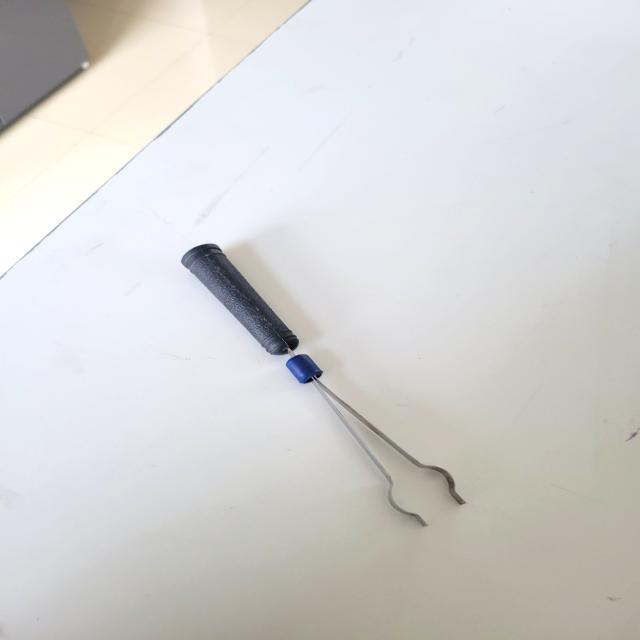TestTube_Holder: (170, 234, 477, 550)
